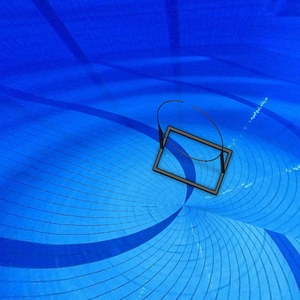circle: (152, 99, 235, 198)
